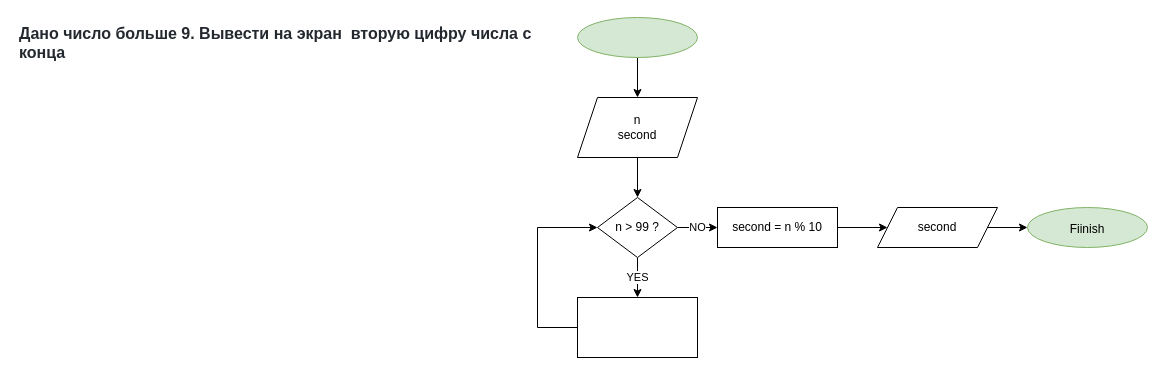
The diagram is 1165 pixels wide and 375 high, and some of its shapes have lost their labels. Here are the shapes that lost their labels. From the top down, the box of each, then its label:
(576, 16, 698, 58): Start
(576, 296, 698, 358): n = n / 10
